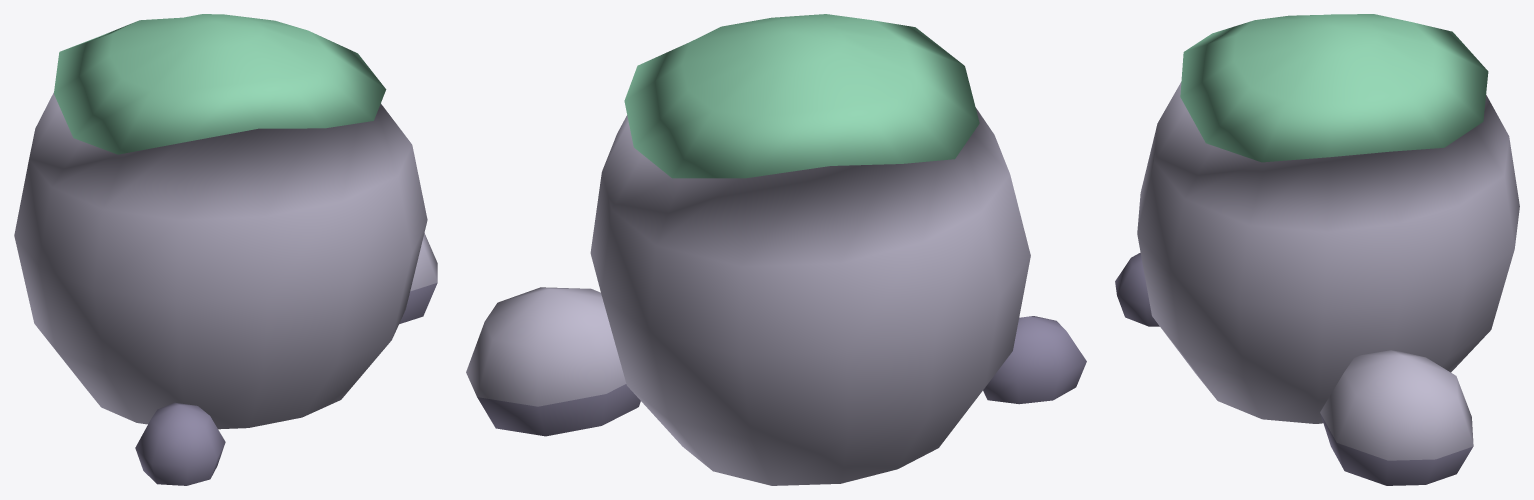
Rendered from boulder.fbx.
3 renders of one model, left to right at view 1: azimuth 30°, elevation 25°; view 2: azimuth 150°, elevation 25°; view 3: azimuth 270°, elevation 25°, orthographic. The views are drawn at different scales.
Visible parts, largest first — view 1: boulder; view 2: boulder; view 3: boulder.
Part boxes in pixels (box(x1,y1,x2,y2)): boulder: box(14, 14, 437, 485); boulder: box(466, 14, 1086, 485); boulder: box(1115, 14, 1519, 485).
Size of the model in its own units: 2.51 by 1.99 by 2.09.
